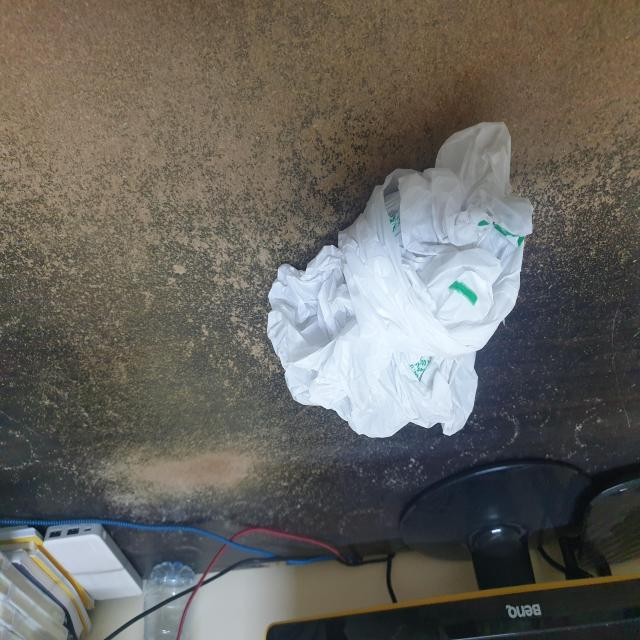plastic bag: (269, 121, 535, 439)
